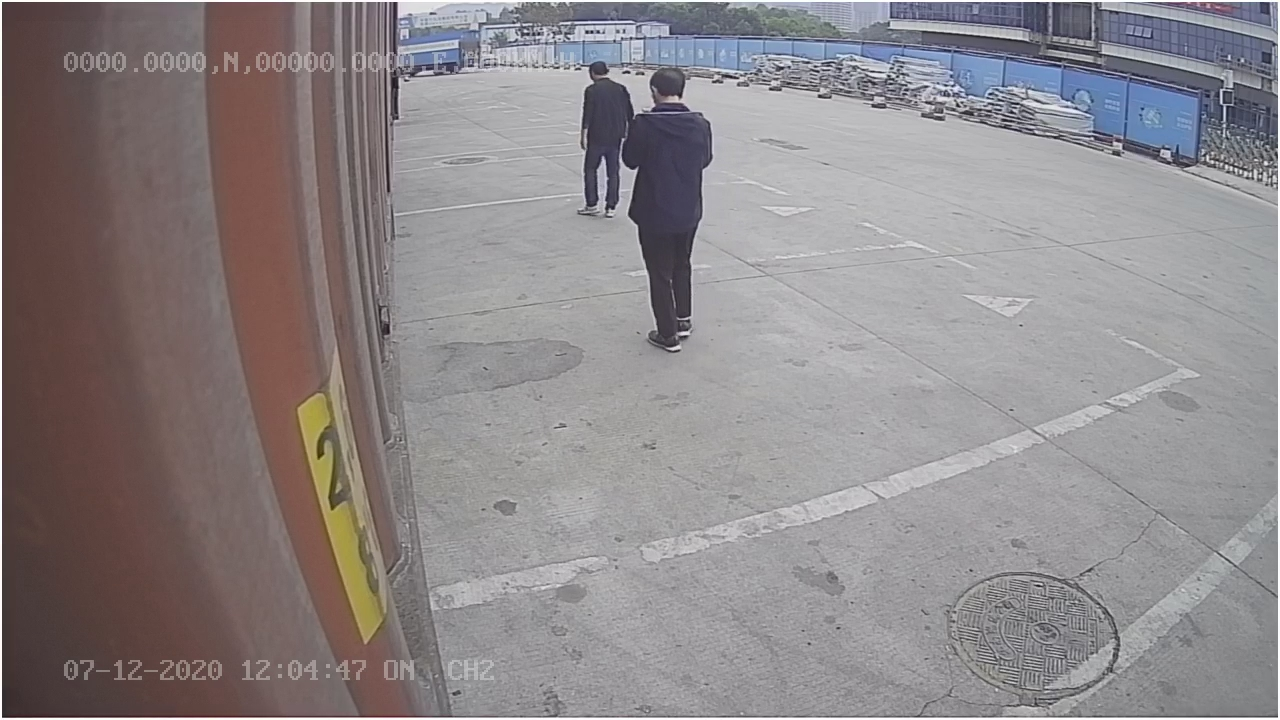person: (620, 59, 713, 354)
